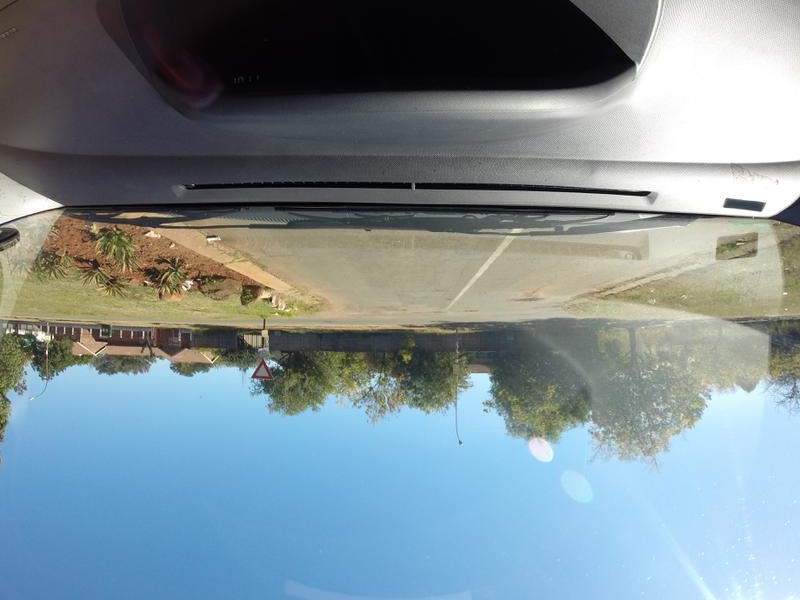pothole: (508, 293, 550, 307)
